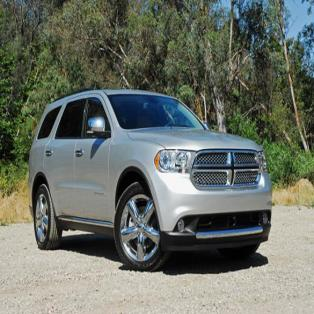Auto: (27, 87, 274, 273)
